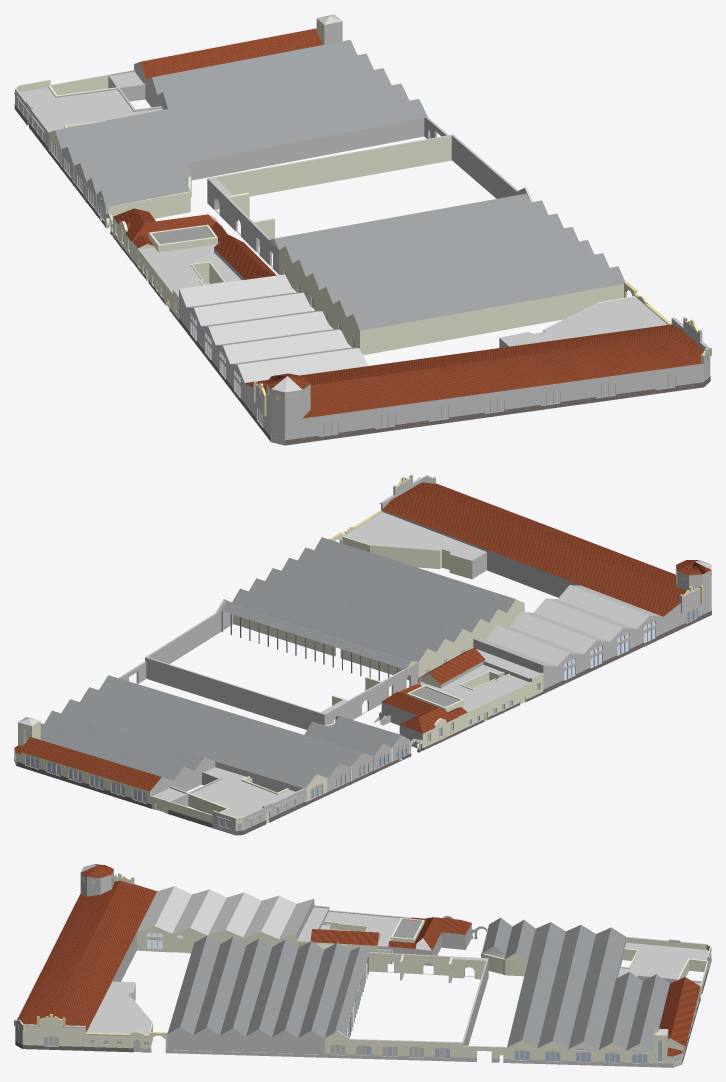
Rendered from arizu.glb.
3 renders of one model, top to bottom at view 1: azimuth 30°, elevation 25°; view 2: azimuth 150°, elevation 25°; view 3: azimuth 270°, elevation 25°, orthographic. The views are drawn at different scales.
Parts seen in each view (by area): view 1: Arizu1; view 2: Arizu1; view 3: Arizu1.
Part boxes in pixels (<box>): Arizu1: <box>14,14,711,445</box>; Arizu1: <box>14,474,711,835</box>; Arizu1: <box>14,864,711,1067</box>.
Bounding box in the file's own units: 131 × 17 × 236.
11 materials, 4 textured.
